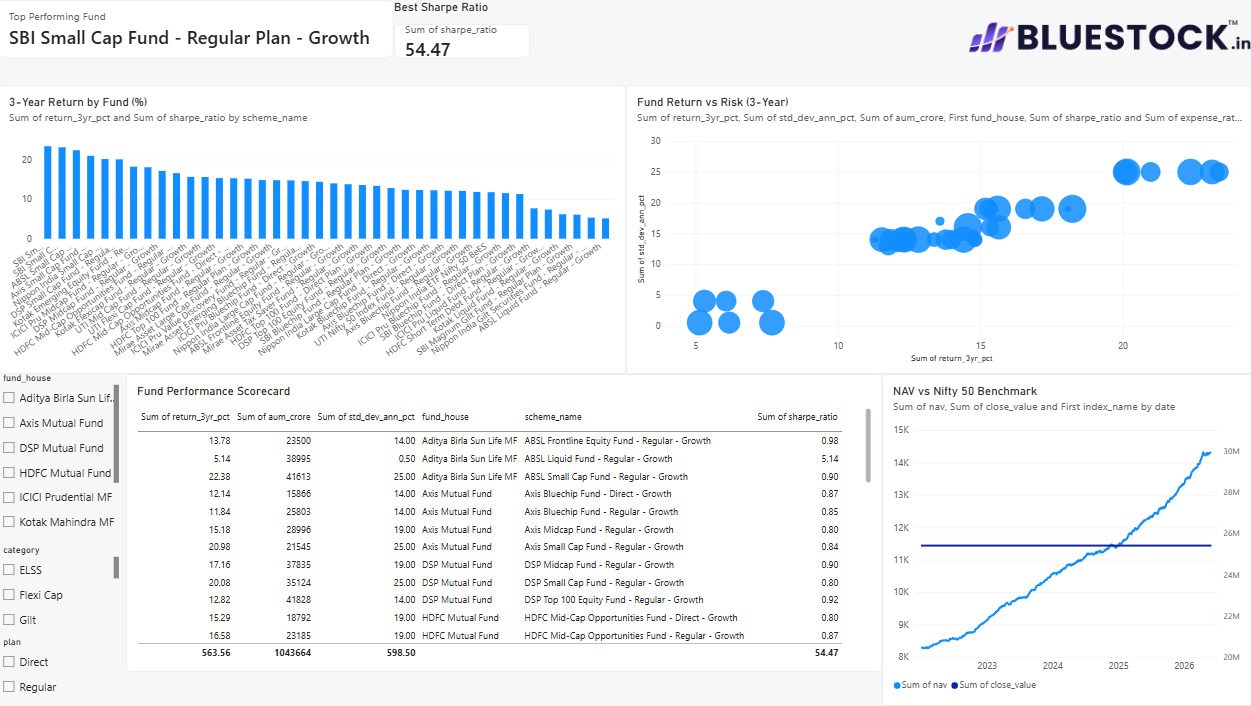

Layout of this report page (visuals, bound fields, positions):
{"tool":"powerbi","page":{"name":"Fund Performance","canvas":[1920,1080],"ordinal":1},"visuals":[{"type":"cardVisual","fields":{"Data":["scheme_performance_cleaned.Top Performing Fund"]},"box":[0,0,605.5,89],"z":0},{"type":"cardVisual","title":"Best Sharpe Ratio","fields":{"Data":["Sum(scheme_performance_cleaned.sharpe_ratio)"]},"box":[605.5,0,208.6,89],"z":1000},{"type":"clusteredColumnChart","title":"3-Year Return by Fund (%)","fields":{"Category":["scheme_performance_cleaned.scheme_name"],"Y":["Sum(scheme_performance_cleaned.return_3yr_pct)"]},"box":[0,89,814.1,482.9],"z":2000},{"type":"slicer","fields":{"Values":["scheme_performance_cleaned.category"]},"box":[0,833.1,185.3,141.5],"z":3000},{"type":"slicer","fields":{"Values":["scheme_performance_cleaned.plan"]},"box":[0,974.6,185.3,105],"z":4000},{"type":"scatterChart","title":"Fund Return vs Risk (3-Year)","fields":{"Category":["scheme_performance_cleaned.scheme_name"],"Size":["Sum(scheme_performance_cleaned.aum_crore)"],"X":["Sum(scheme_performance_cleaned.return_3yr_pct)"],"Y":["Sum(scheme_performance_cleaned.std_dev_ann_pct)"]},"box":[920.6,0,999.4,571.9],"z":5000},{"type":"tableEx","title":"Fund Performance Scorecard","fields":{"Values":["Sum(scheme_performance_cleaned.return_3yr_pct)","Sum(scheme_performance_cleaned.aum_crore)","Sum(scheme_performance_cleaned.std_dev_ann_pct)","scheme_performance_cleaned.fund_house","scheme_performance_cleaned.scheme_name","Sum(scheme_performance_cleaned.sharpe_ratio)"]},"box":[920.6,571.9,999.4,456.7],"z":6000},{"type":"lineChart","title":"NAV vs Nifty 50 Benchmark","fields":{"Category":["nav_history_cleaned.date"],"Y":["Sum(nav_history_cleaned.nav)"],"Y2":["Sum(benchmark_indices_cleaned.close_value)"]},"box":[185.3,571.9,628.8,500.4],"z":7000},{"type":"slicer","fields":{"Values":["scheme_performance_cleaned.fund_house"]},"box":[0,570.5,185.3,256.8],"z":8000}]}

Visuals, with their boxes in screenshot pixels (x1, y1, x2, y2), scaled from the page's 1920x1080 canvas onto the 1251x706 screenshot:
cardVisual - scheme_performance_cleaned.Top Performing Fund: bbox(0, 0, 395, 58)
"Best Sharpe Ratio" cardVisual: bbox(395, 0, 530, 58)
"3-Year Return by Fund (%)" clusteredColumnChart: bbox(0, 58, 530, 374)
slicer - scheme_performance_cleaned.category: bbox(0, 545, 121, 637)
slicer - scheme_performance_cleaned.plan: bbox(0, 637, 121, 705)
"Fund Return vs Risk (3-Year)" scatterChart: bbox(600, 0, 1250, 374)
"Fund Performance Scorecard" tableEx: bbox(600, 374, 1250, 672)
"NAV vs Nifty 50 Benchmark" lineChart: bbox(121, 374, 530, 701)
slicer - scheme_performance_cleaned.fund_house: bbox(0, 373, 121, 541)
